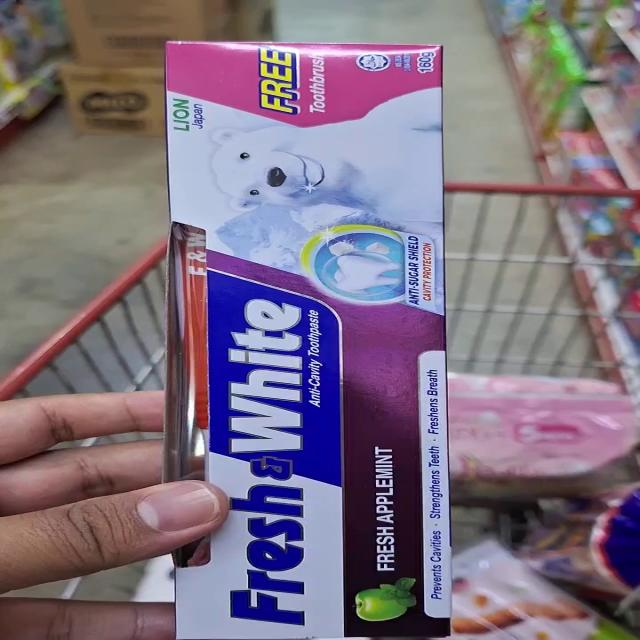Ubat Gigi: (143, 309, 466, 640), (144, 29, 468, 322)
